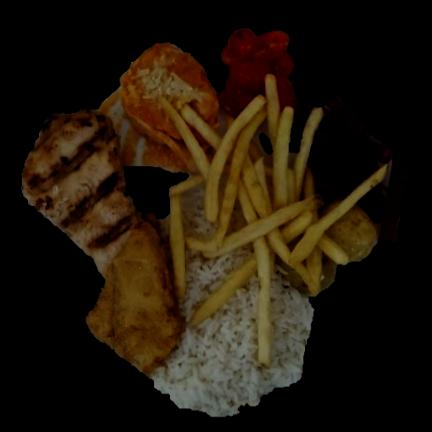beet: (310, 96, 408, 240), (295, 82, 321, 129)
chicken: (22, 109, 183, 374)
potato: (163, 75, 389, 365)
rice: (152, 265, 314, 416), (180, 247, 254, 320), (183, 187, 213, 234)
tomato: (218, 29, 296, 116)
